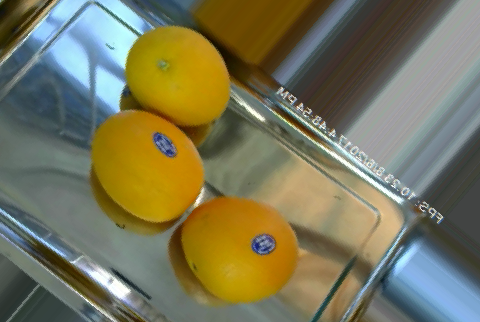Orange: (178, 195, 301, 304), (90, 108, 204, 222), (125, 24, 230, 124)
